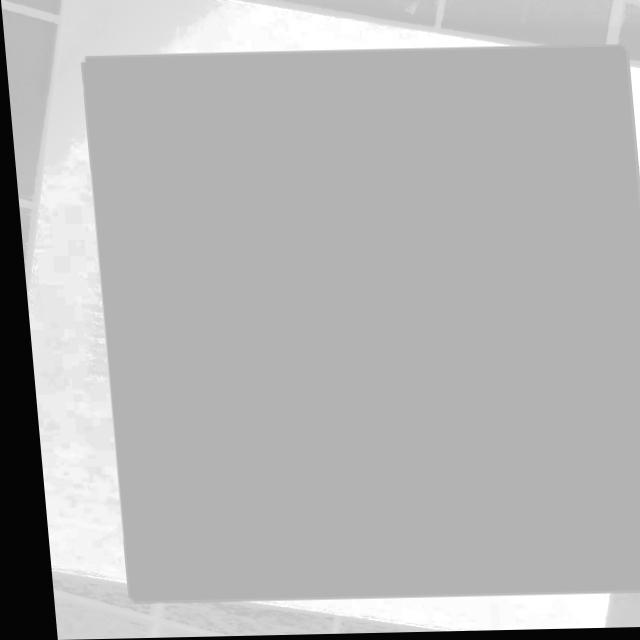qr_code: (80, 49, 640, 602)
